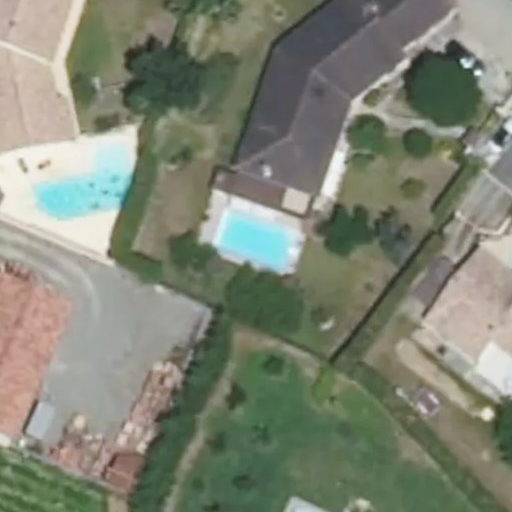pool: (38, 143, 134, 216), (217, 212, 299, 273)
